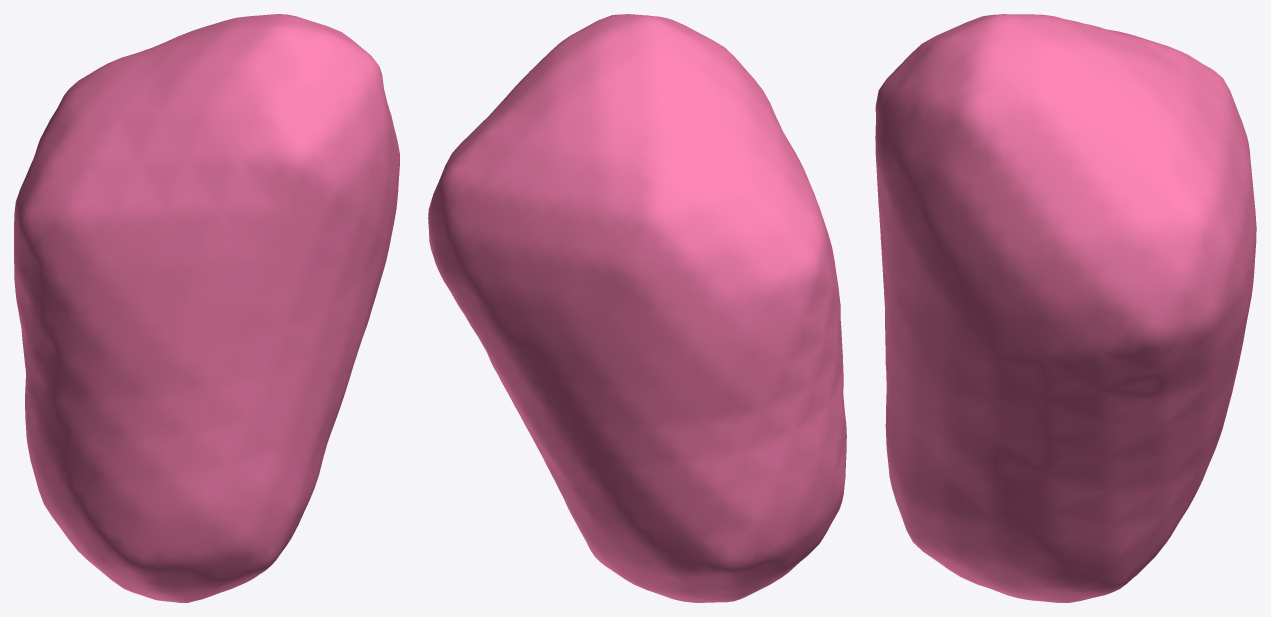
Rendered from HIV1_capsid_3j3q_PackOuter_0_1_0.dae.
The picture shows the model from 3 angles, left to right: view 1: azimuth 30°, elevation 25°; view 2: azimuth 150°, elevation 25°; view 3: azimuth 270°, elevation 25°; orthographic projection. The views are drawn at different scales.
Visible parts, largest first — view 1: HIV1_capsid_3j3q_PackOuter_0_1_0; view 2: HIV1_capsid_3j3q_PackOuter_0_1_0; view 3: HIV1_capsid_3j3q_PackOuter_0_1_0.
Boxes of the visible parts, bbox=[...] form: HIV1_capsid_3j3q_PackOuter_0_1_0: bbox=[14, 14, 399, 602]; HIV1_capsid_3j3q_PackOuter_0_1_0: bbox=[428, 14, 846, 602]; HIV1_capsid_3j3q_PackOuter_0_1_0: bbox=[875, 14, 1256, 602].
Size of the model in its own units: 793 by 1146 by 640.
